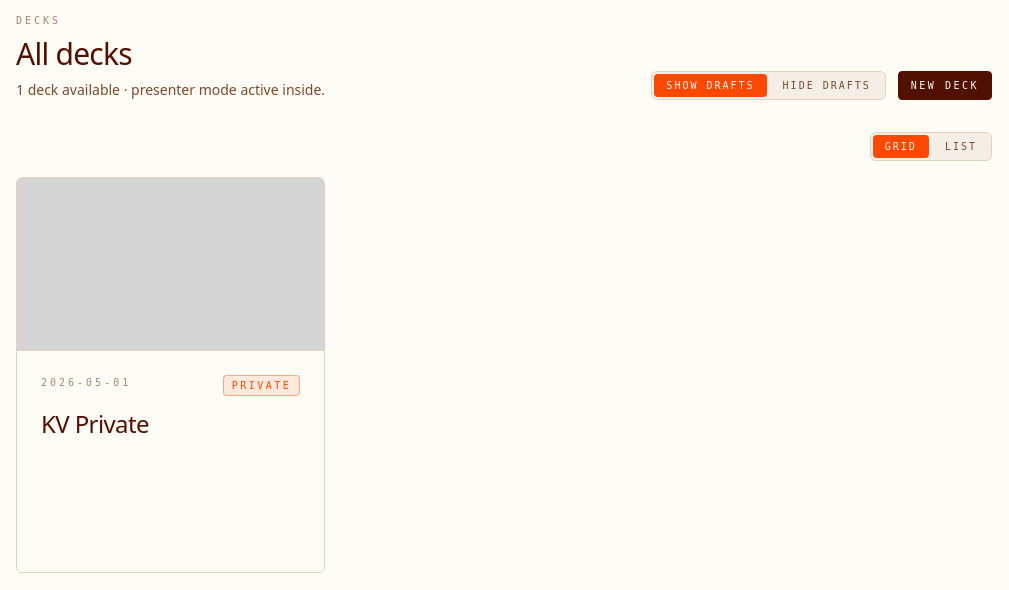
Test: AdminIndex — KV visibility quick toggle (#214) › toggling private → public similarly flips to PUBLIC
Click the button with test id "deck-visibility-toggle-kv-private".
click(262, 385)  # box [223,375,300,396]
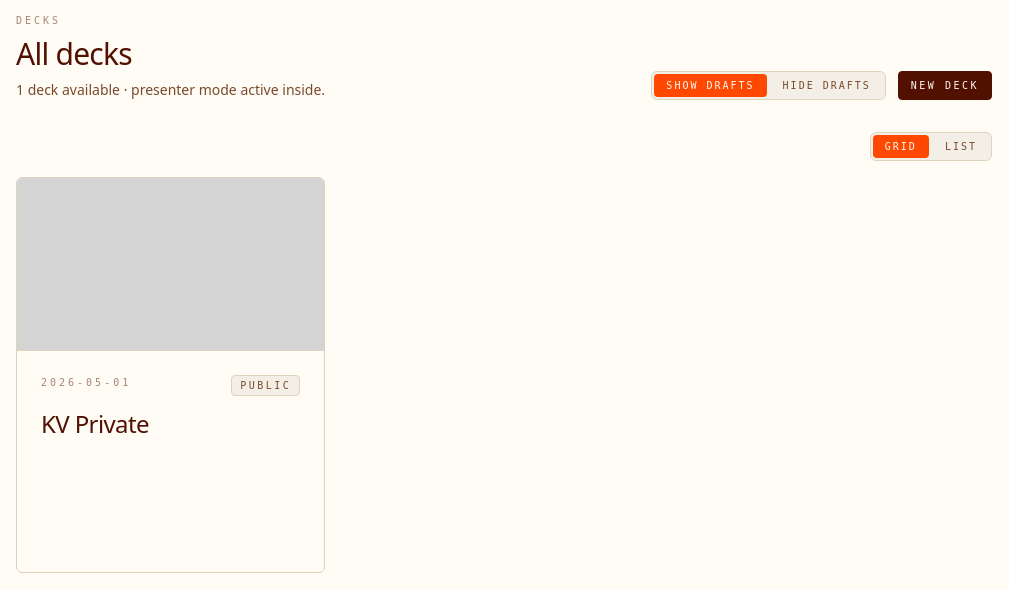
expect the button with test id "deck-visibility-toggle-kv-private" reads "public": met, box [231,375,300,396]
